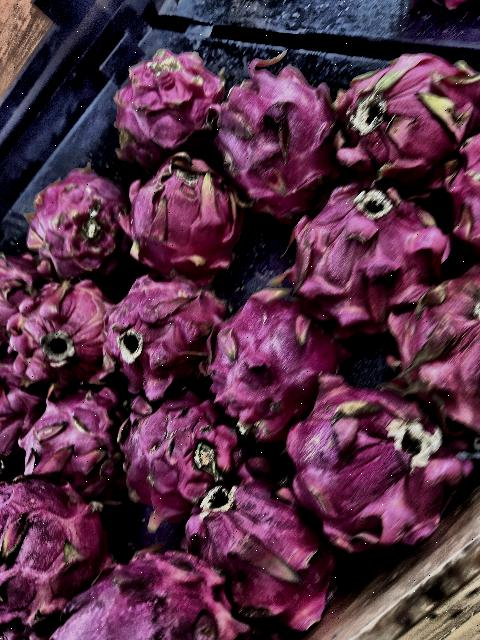buah-naga-matang: (296, 372, 466, 550), (278, 175, 466, 331), (189, 479, 370, 627), (338, 50, 480, 186), (0, 469, 110, 636), (213, 66, 346, 200), (217, 298, 339, 440), (125, 148, 247, 284), (117, 393, 247, 515), (20, 164, 140, 280), (110, 266, 222, 382), (111, 48, 215, 172), (74, 564, 242, 640), (2, 280, 108, 390), (23, 388, 129, 492)
